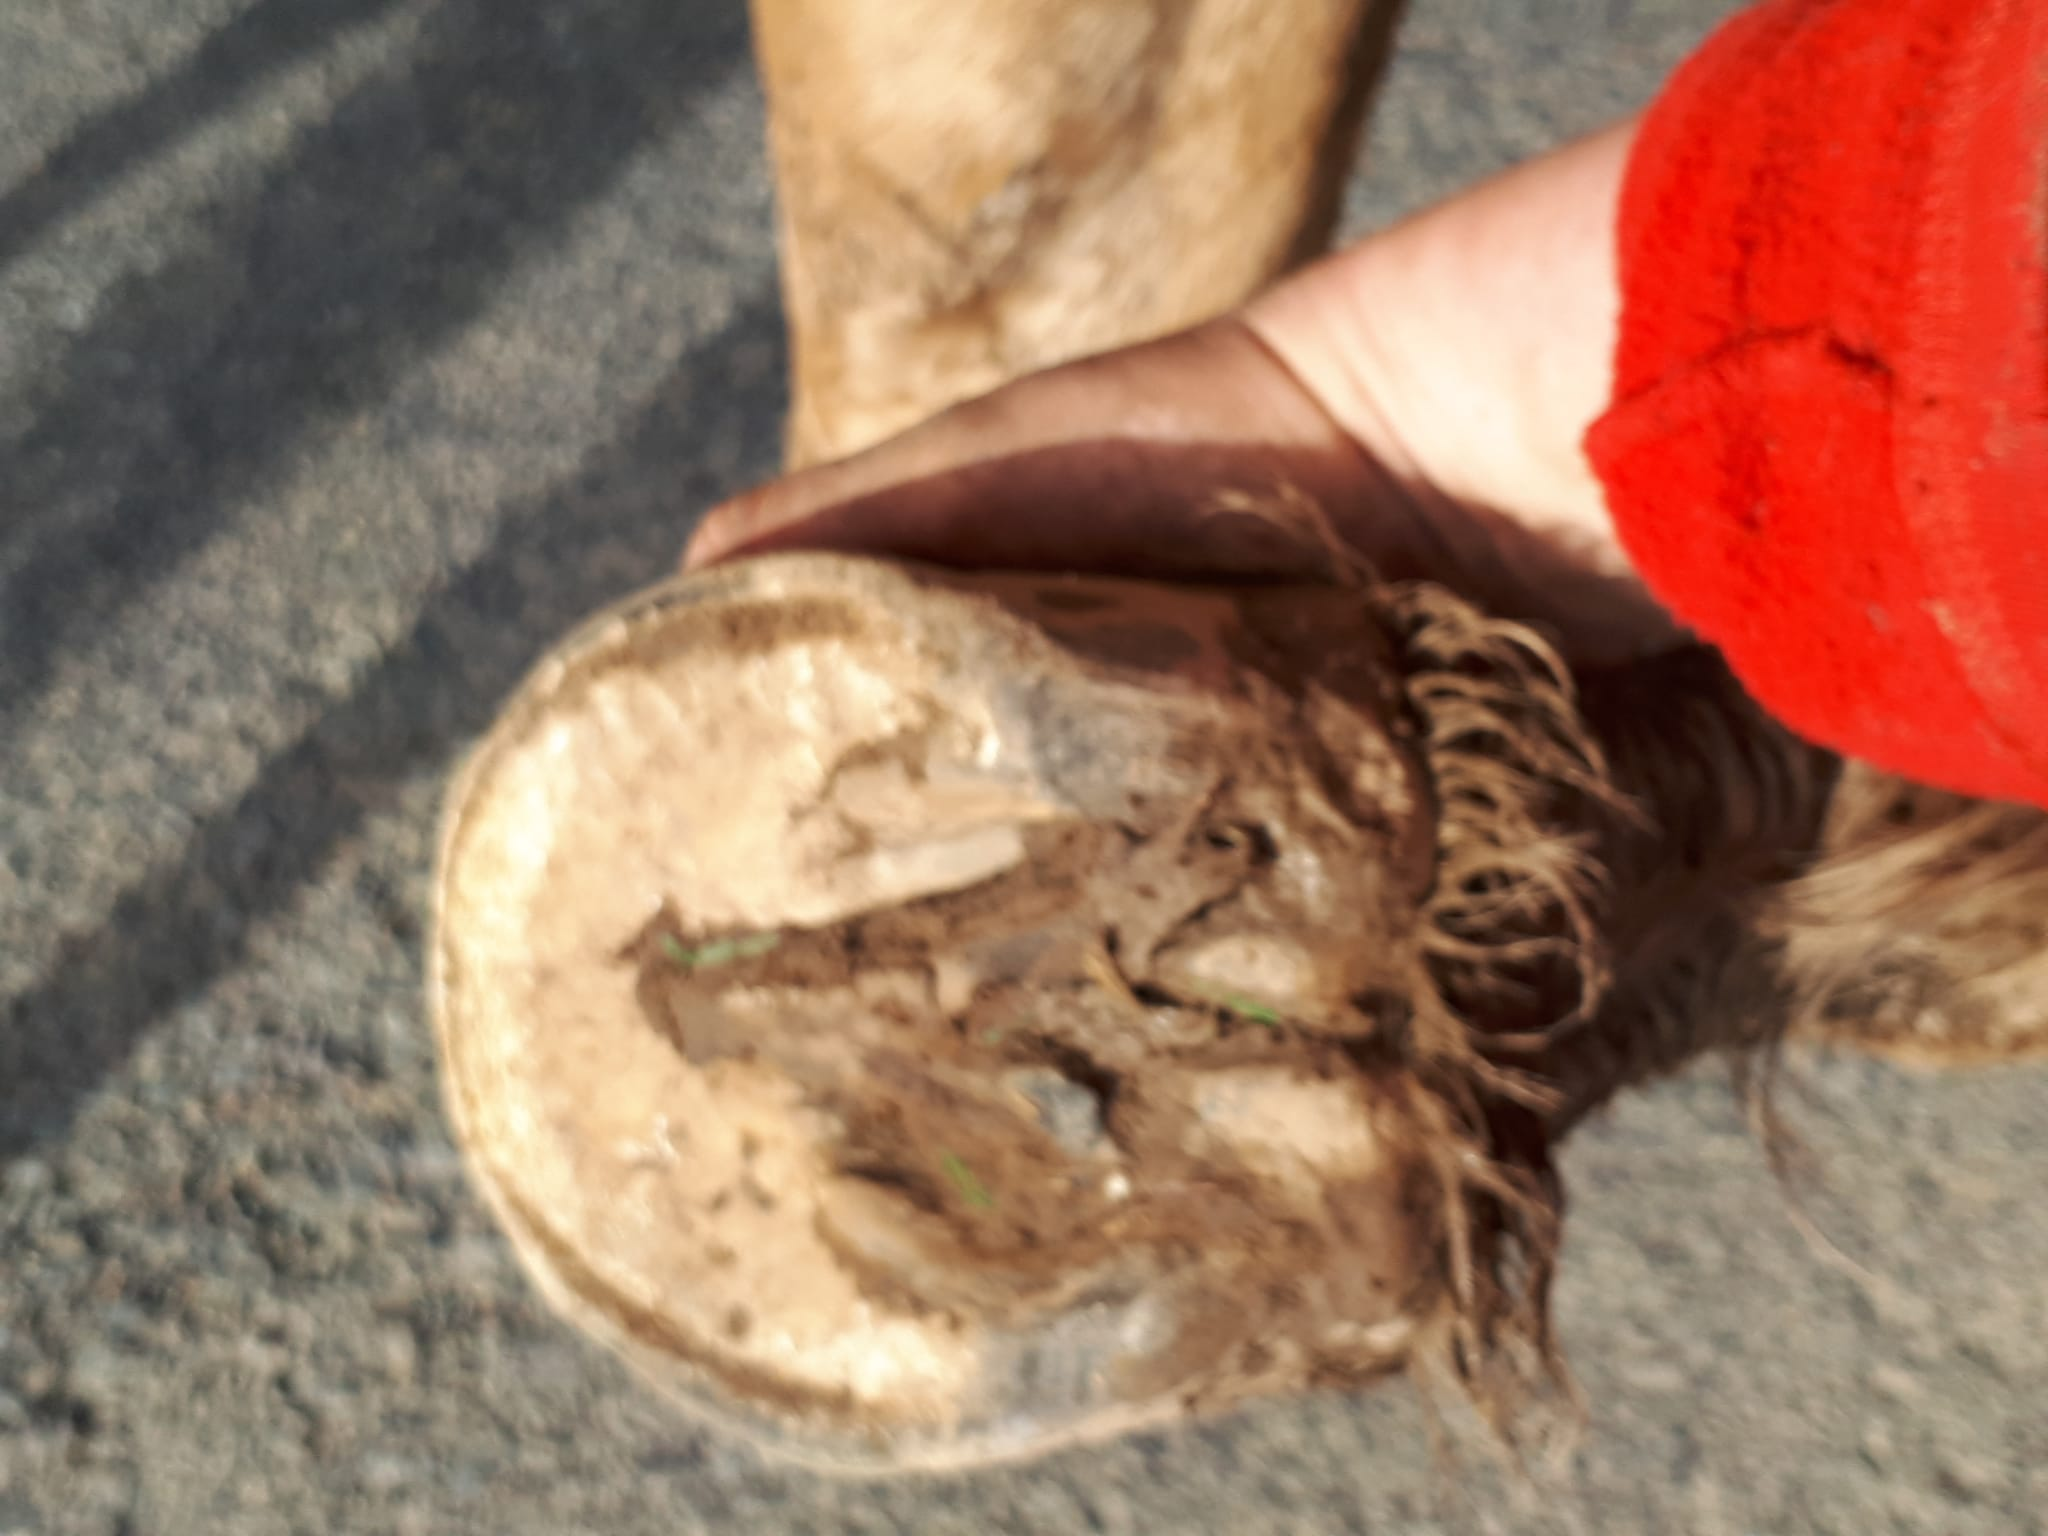horsesole: (427, 549, 1234, 1483)
